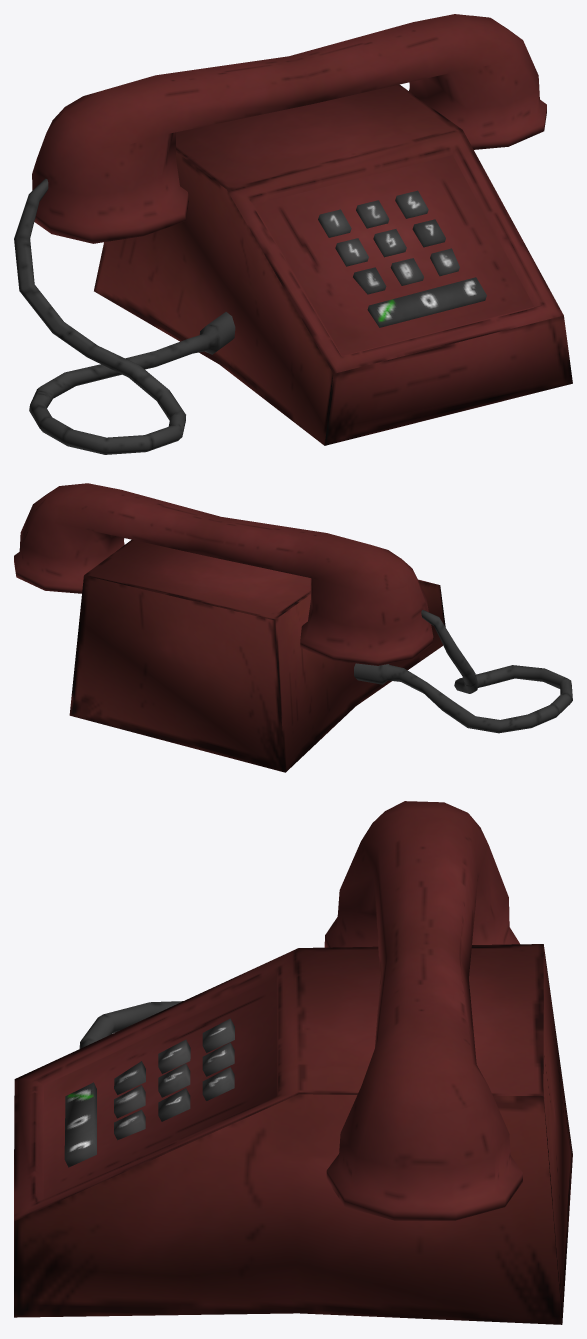
Rendered from Hotel_phone.fbx.
3 renders of one model, top to bottom at view 1: azimuth 30°, elevation 25°; view 2: azimuth 150°, elevation 25°; view 3: azimuth 270°, elevation 25°, orthographic. The views are drawn at different scales.
Visible parts, largest first — view 1: Hotel_phone; view 2: Hotel_phone; view 3: Hotel_phone.
Part boxes in pixels (bbox=[...]): Hotel_phone: bbox=[14, 14, 572, 454]; Hotel_phone: bbox=[14, 483, 572, 772]; Hotel_phone: bbox=[14, 801, 572, 1324].
Bounding box in the file's own units: 57.81 × 23.64 × 37.3.
